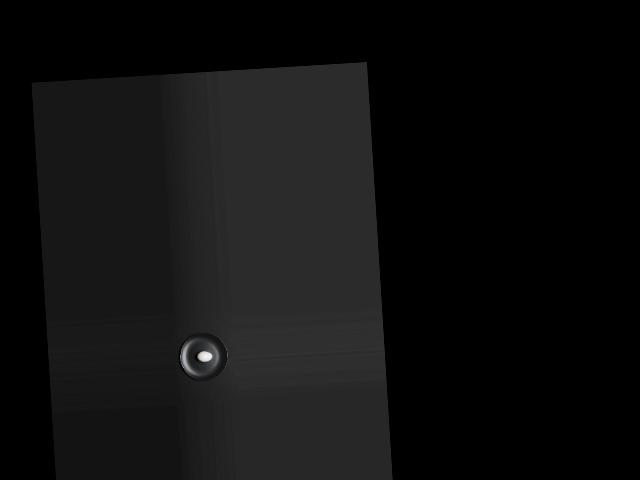egg: (196, 350, 212, 362)
